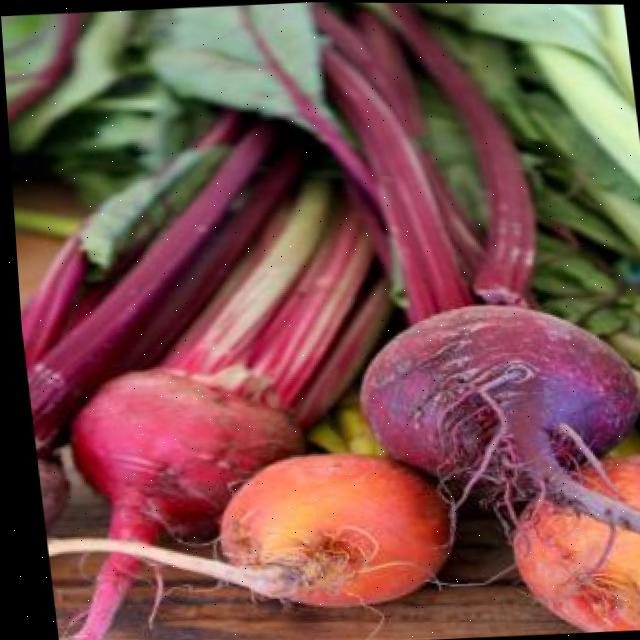Wet: (341, 294, 640, 488), (204, 449, 440, 605), (70, 363, 296, 519), (486, 448, 640, 636)
